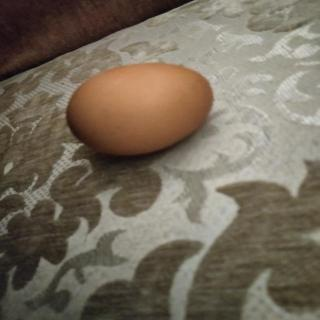Telur: (61, 61, 219, 159)
